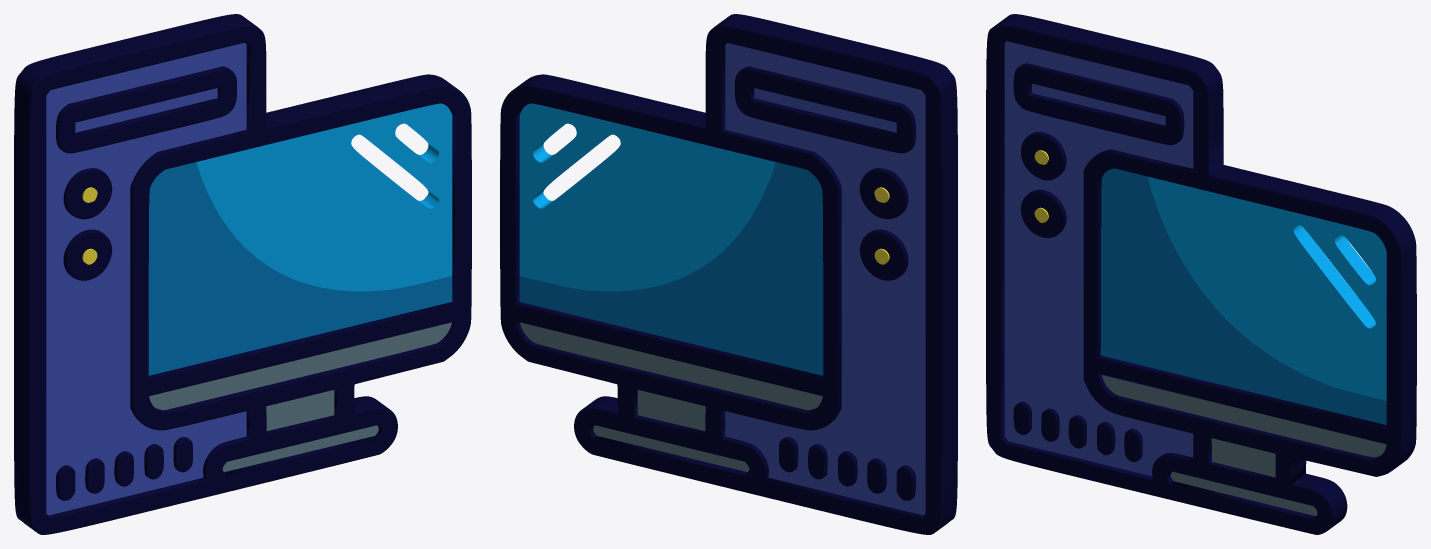
The picture shows the model from 3 angles, left to right: view 1: azimuth 30°, elevation 25°; view 2: azimuth 150°, elevation 25°; view 3: azimuth 330°, elevation 25°; orthographic projection. The views are drawn at different scales.
Visible parts, largest first — view 1: path302, path312, path308, path306, path310, path304, path304.001; view 2: path302, path312, path308, path306, path310, path304, path304.001; view 3: path302, path312, path308, path306, path310, path304, path304.001.
Boxes of the visible parts, x1,y1,x2,y2 form: path302: [14, 14, 471, 534]; path312: [196, 103, 452, 291]; path308: [57, 42, 246, 512]; path306: [148, 162, 452, 375]; path310: [160, 322, 451, 469]; path304: [46, 88, 217, 515]; path304.001: [149, 393, 277, 472]; path302: [500, 14, 957, 534]; path312: [519, 103, 775, 291]; path308: [725, 42, 914, 512]; path306: [519, 162, 823, 375]; path310: [520, 322, 811, 469]; path304: [754, 88, 925, 515]; path304.001: [694, 393, 822, 472]; path302: [986, 14, 1416, 534]; path312: [1148, 176, 1386, 400]; path308: [1017, 44, 1193, 476]; path306: [1100, 168, 1386, 424]; path310: [1114, 378, 1386, 515]; path304: [1004, 41, 1165, 443]; path304.001: [1102, 375, 1223, 483].
Bounding box in the file's own units: 5.77 × 5.77 × 0.3964.
